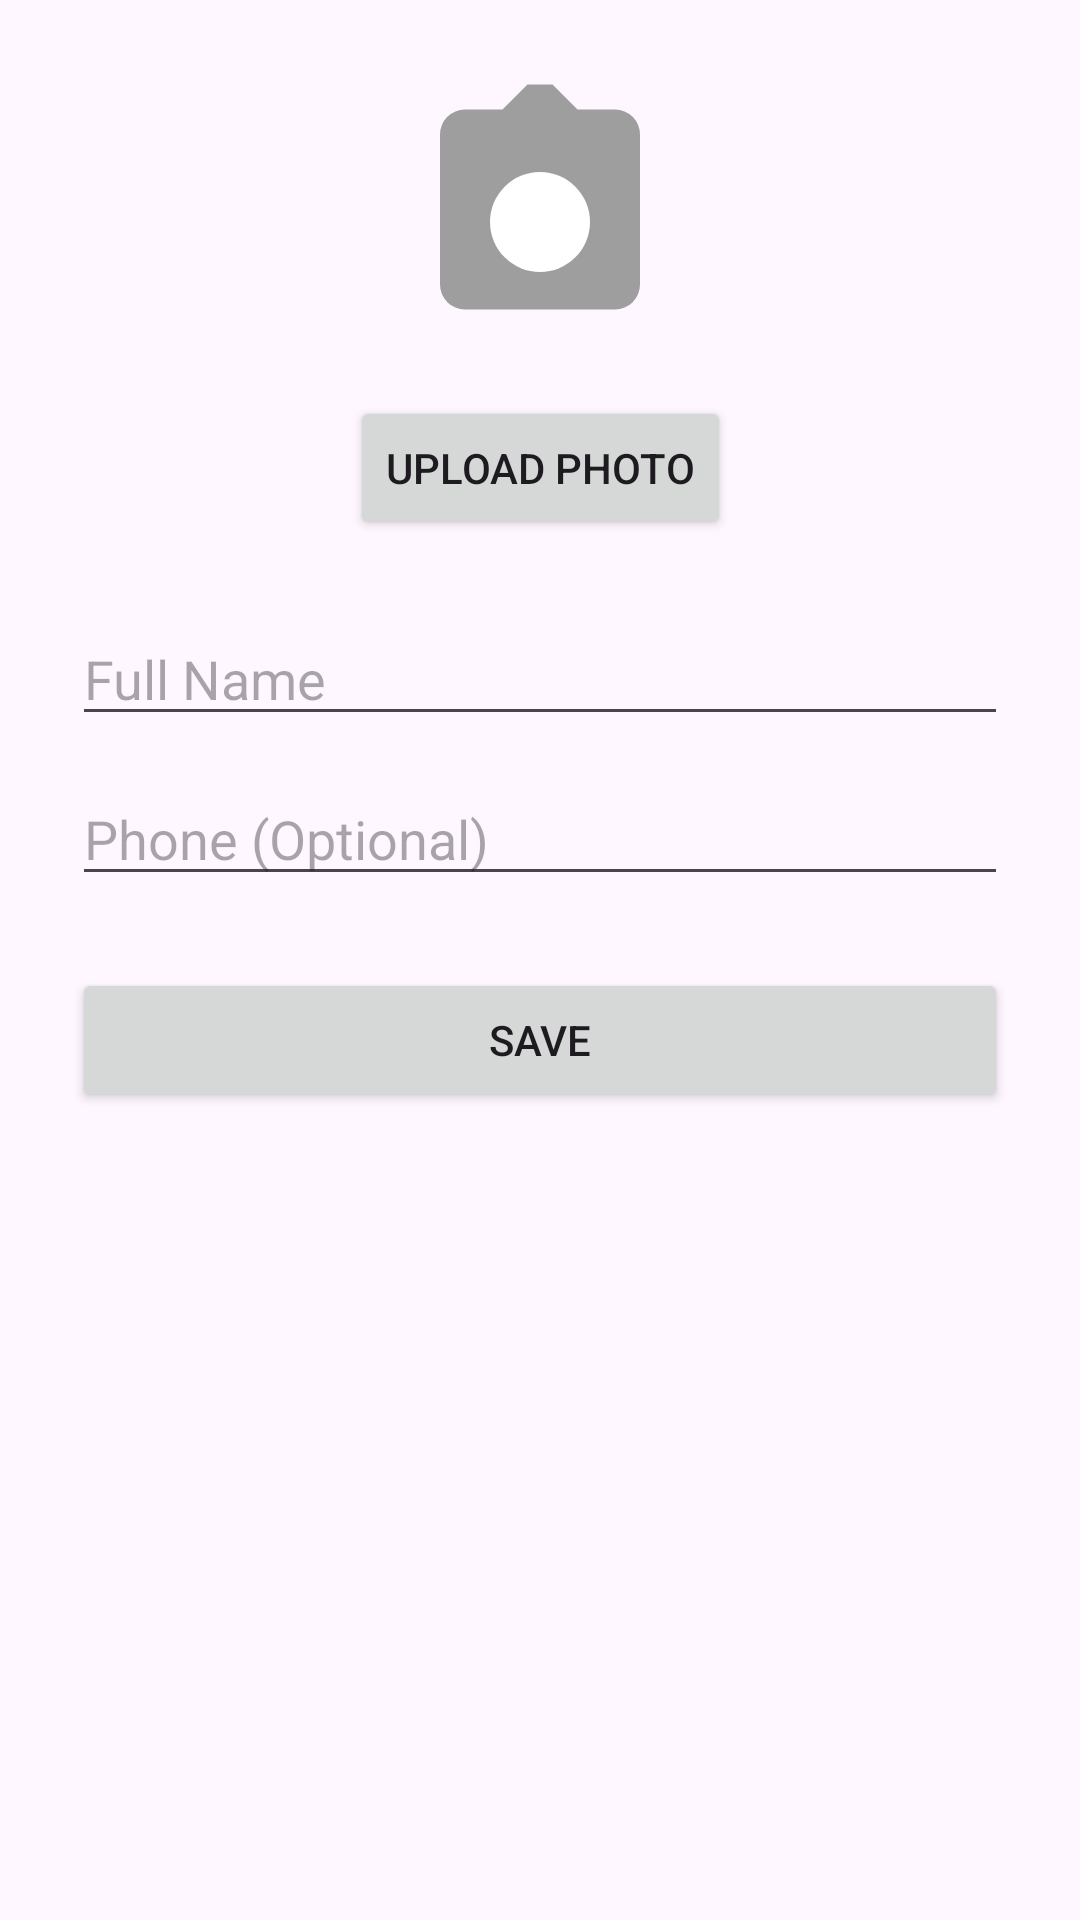

Icon click points for this 1080w x 1920h phone screenshot, format [x,y]:
Profile picture: [540,197]
